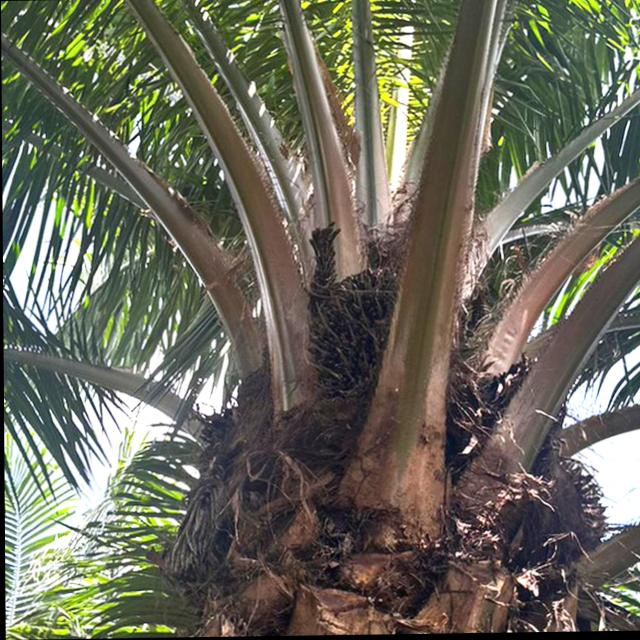unripe: (301, 264, 424, 412)
